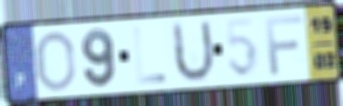5: (224, 17, 261, 80)
9: (79, 25, 118, 91)
F: (263, 13, 306, 78)
L: (131, 25, 168, 86)
O: (35, 28, 78, 94)
U: (171, 17, 217, 86)
